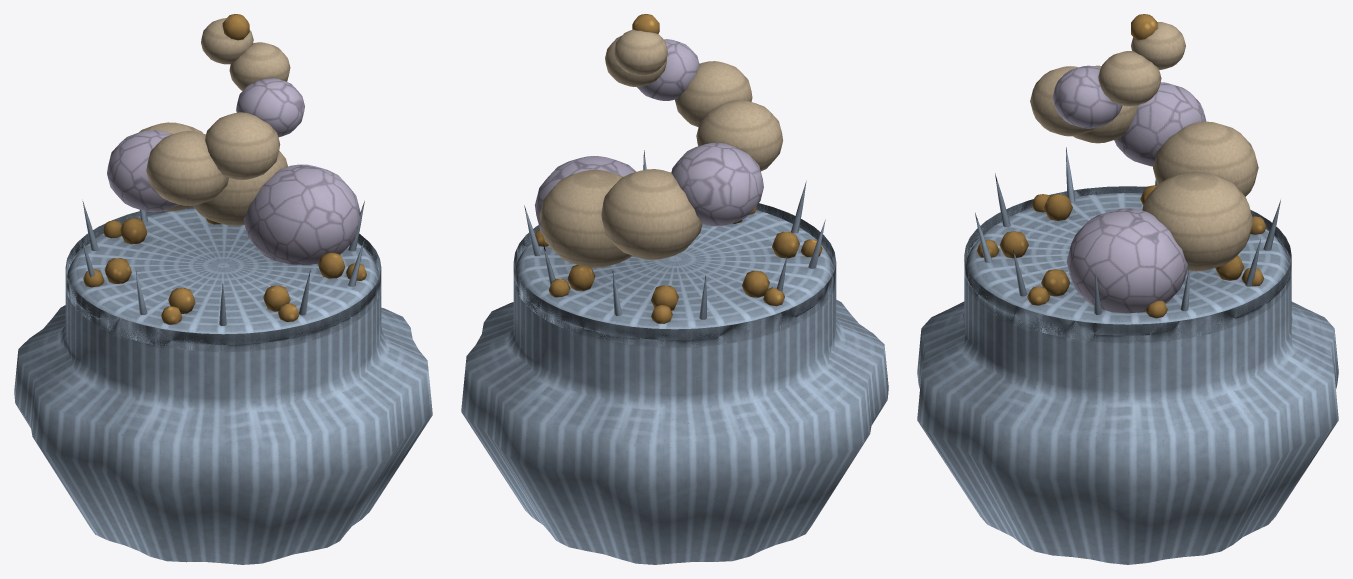
File: landmark_b1_foram_spiral.glb
The picture shows the model from 3 angles, left to right: view 1: azimuth 30°, elevation 25°; view 2: azimuth 150°, elevation 25°; view 3: azimuth 270°, elevation 25°; orthographic projection. The views are drawn at different scales.
Parts seen in each view (by area): view 1: LandmarkB1ForamSpiral, Growth_Beads, Growth_Needles; view 2: LandmarkB1ForamSpiral, Growth_Beads, Growth_Needles; view 3: LandmarkB1ForamSpiral, Growth_Beads, Growth_Needles.
Part boxes in pixels (box(x1,y1,x2,y2)): LandmarkB1ForamSpiral: box(14, 14, 432, 564); Growth_Beads: box(83, 218, 366, 324); Growth_Needles: box(82, 201, 364, 325); LandmarkB1ForamSpiral: box(461, 14, 888, 564); Growth_Beads: box(535, 206, 822, 323); Growth_Needles: box(524, 150, 825, 319); LandmarkB1ForamSpiral: box(917, 14, 1338, 564); Growth_Beads: box(976, 185, 1266, 318); Growth_Needles: box(975, 147, 1280, 314).
Size of the model in its own units: 5.36 by 6.88 by 5.15.
Materials: 4 (4 with a texture image).
